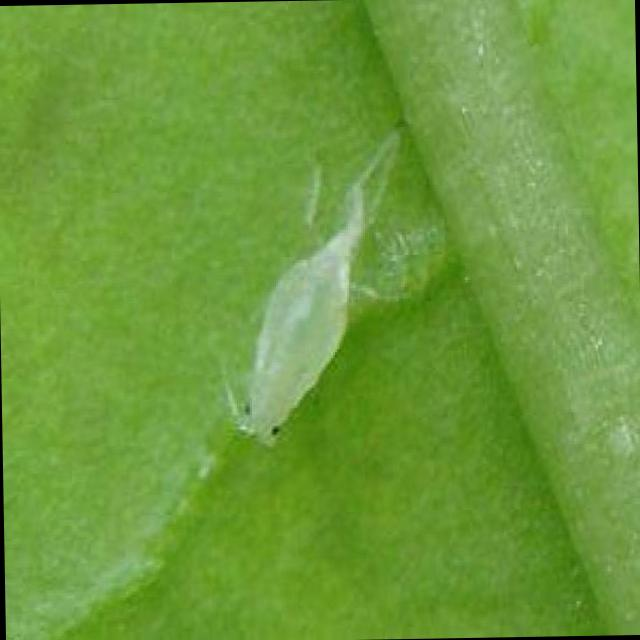aphid: (216, 194, 386, 461)
